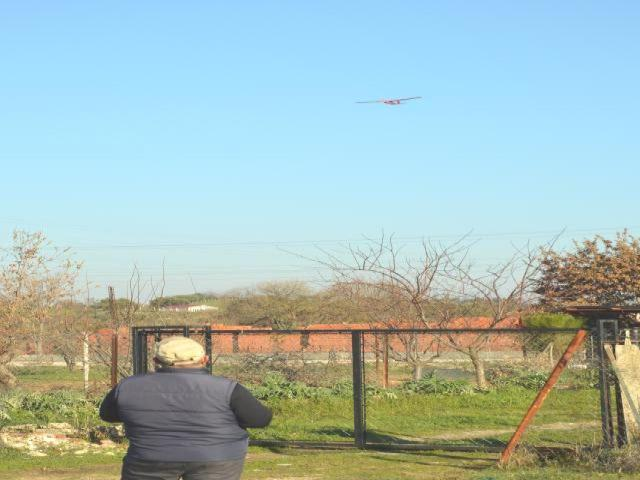iha: (355, 97, 421, 105)
